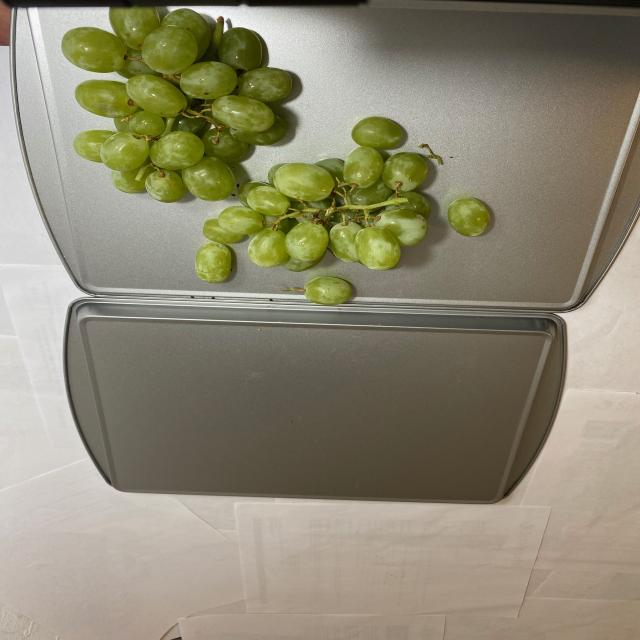grapes: (57, 8, 496, 306)
